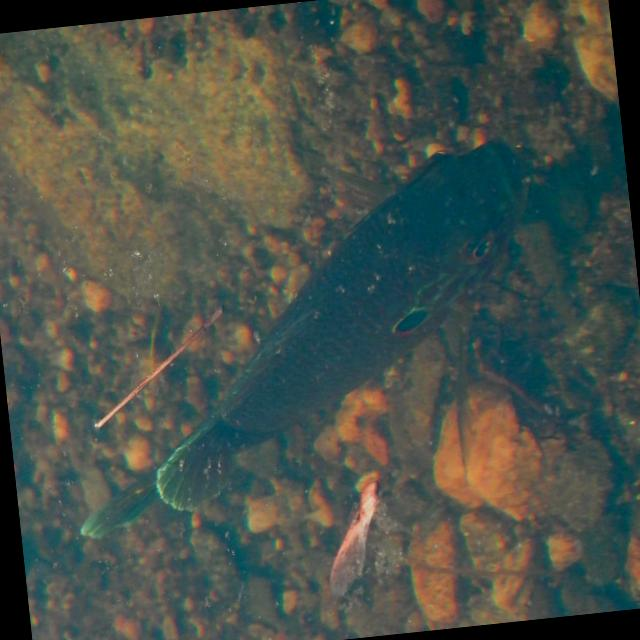Gunes Levregi: (41, 134, 562, 542)
